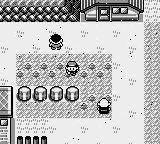main: (65, 62, 79, 75)
no-caminable: (0, 0, 80, 22), (82, 0, 143, 20), (16, 86, 79, 101), (0, 86, 13, 143), (16, 136, 47, 143)
npc: (97, 99, 111, 114), (49, 35, 63, 50)
puerta: (98, 8, 110, 20)
